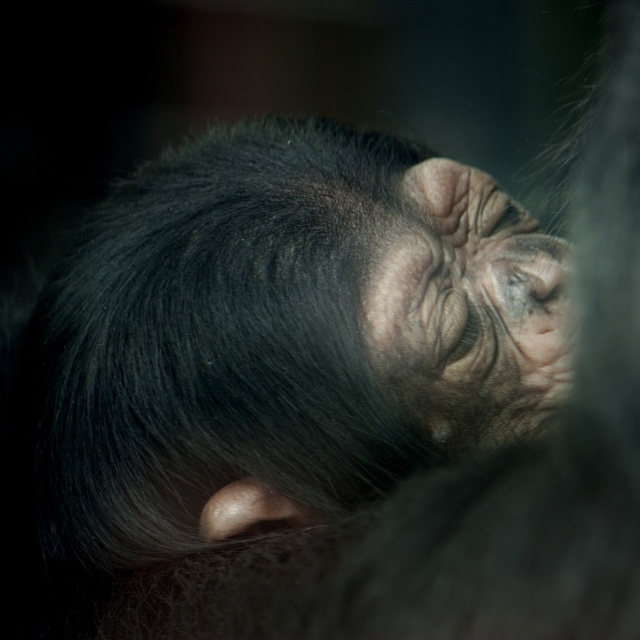Monkey: (4, 100, 628, 624)
